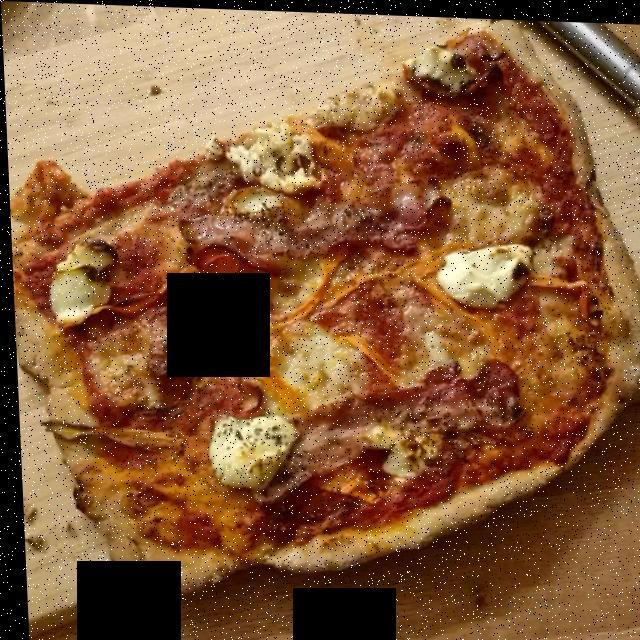bacon: (170, 138, 520, 483)
pizza: (21, 37, 632, 570)
